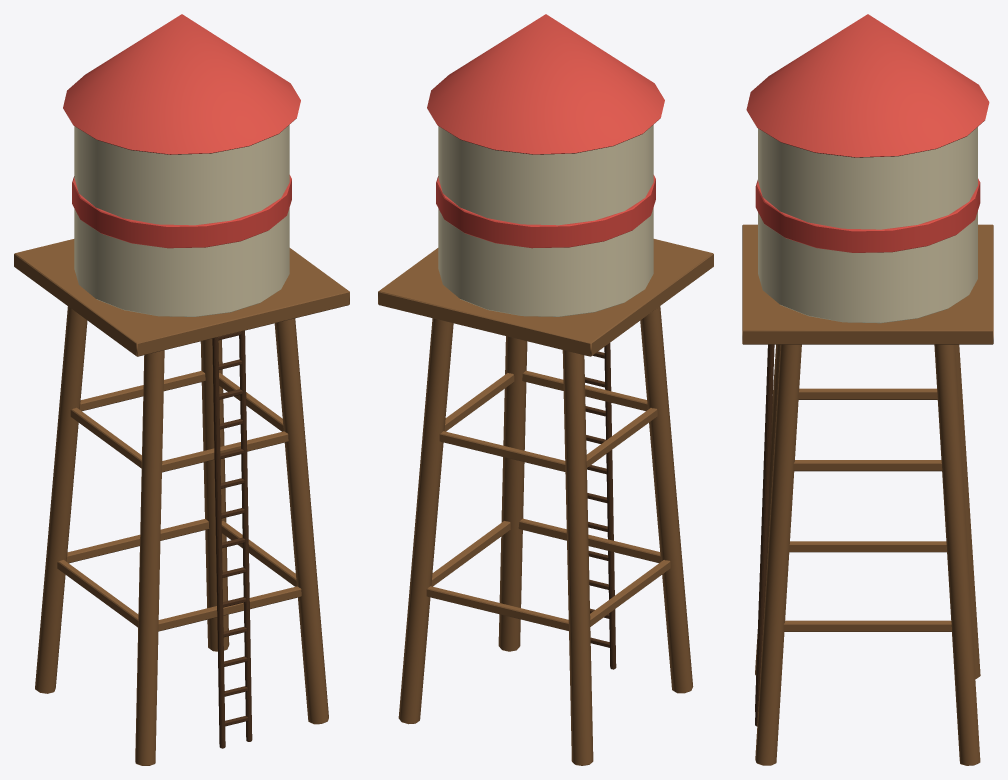
The model's file is WaterTower.glb.
The picture shows the model from 3 angles, left to right: view 1: azimuth 30°, elevation 25°; view 2: azimuth 150°, elevation 25°; view 3: azimuth 270°, elevation 25°; orthographic projection. The views are drawn at different scales.
Parts seen in each view (by area): view 1: WaterTower; view 2: WaterTower; view 3: WaterTower.
Part boxes in pixels (left/top/right/bottom): WaterTower: left=14, top=14, right=349, bottom=765; WaterTower: left=378, top=14, right=713, bottom=765; WaterTower: left=742, top=14, right=993, bottom=765.
Bounding box in the file's own units: 16.01 × 49.55 × 16.01.
